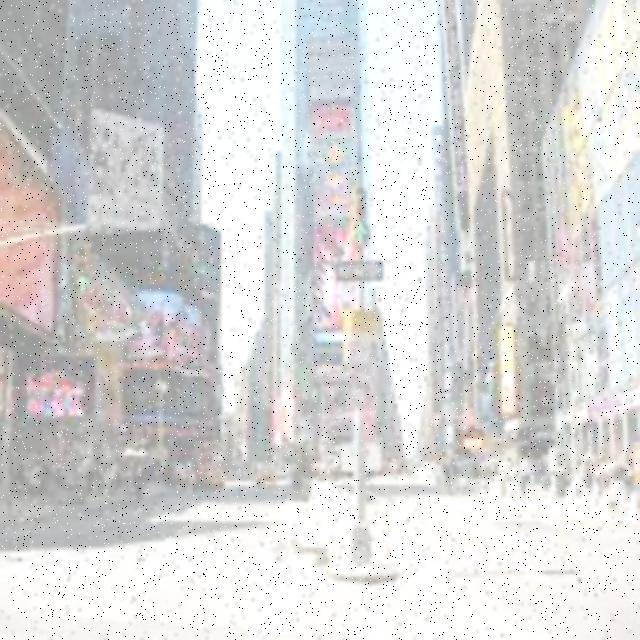crosswalk: (3, 528, 521, 597)
